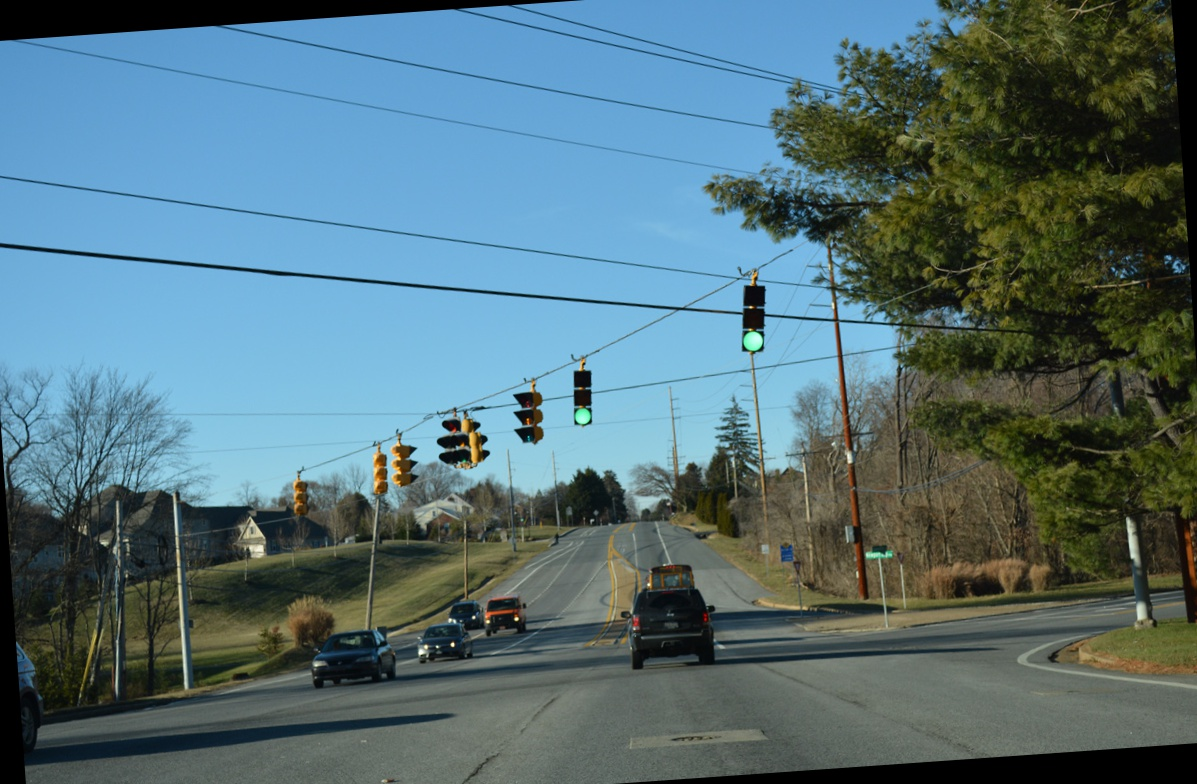traffic_light: (740, 283, 767, 354), (571, 369, 594, 427)
